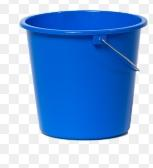SEAU: (7, 2, 153, 168)
